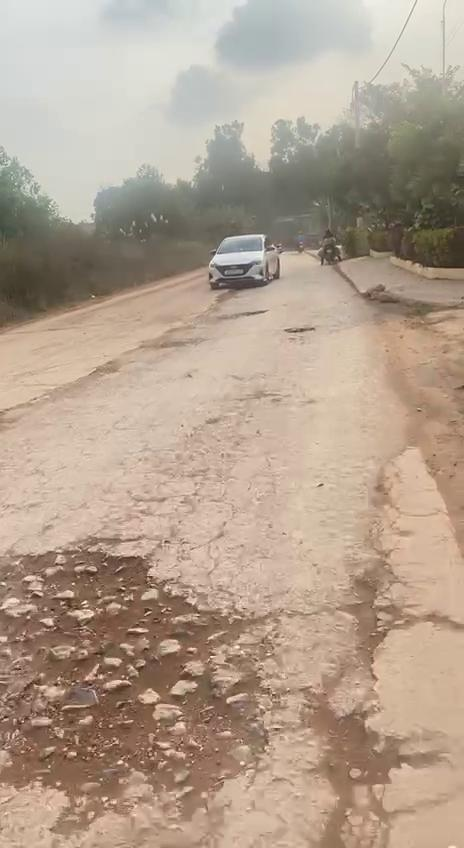pothole: (0, 532, 276, 820), (294, 694, 423, 848)
